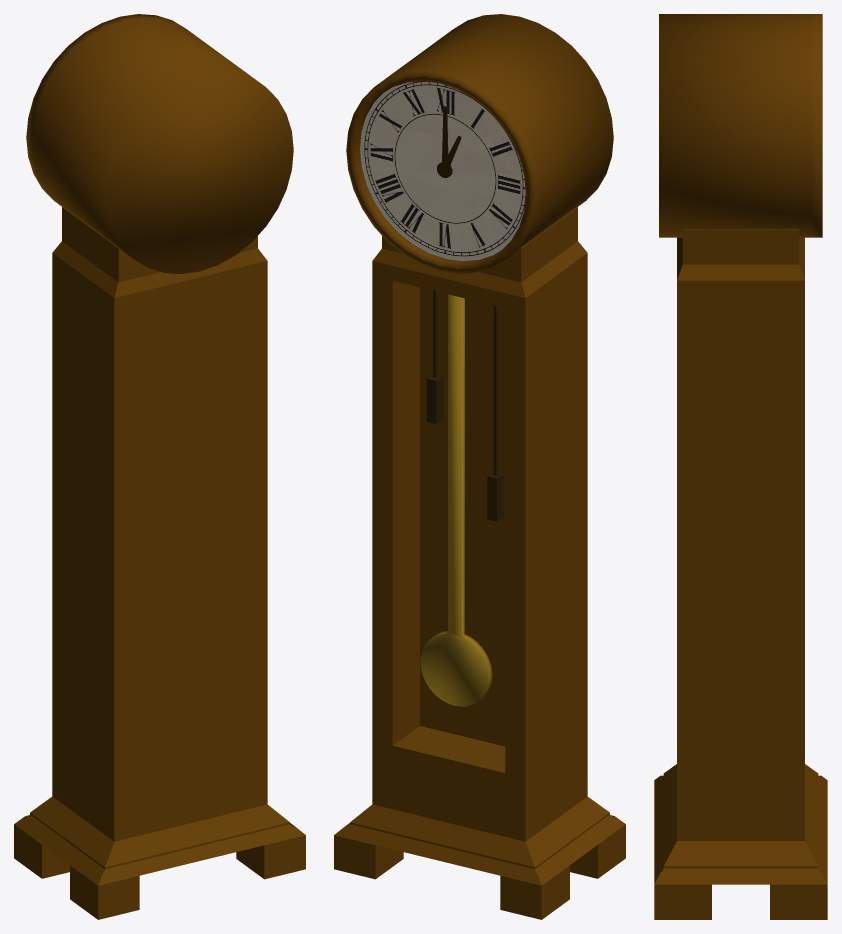
Rendered from grandpacock3.fbx.
3 renders of one model, left to right at view 1: azimuth 30°, elevation 25°; view 2: azimuth 150°, elevation 25°; view 3: azimuth 270°, elevation 25°, orthographic. The views are drawn at different scales.
Parts seen in each view (by area): view 1: clock frame; view 2: clock frame, clock frame.001, pendolo, bilancino 2 (×2); view 3: clock frame.
Part boxes in pixels (x1,y1,x2,y2): clock frame: (14, 14, 305, 919); clock frame: (334, 14, 625, 919); clock frame.001: (360, 81, 525, 260); pendolo: (420, 294, 492, 706); bilancino 2 (×2): (426, 290, 504, 521); clock frame: (654, 14, 827, 919).
Size of the model in its own units: 575 by 2162 by 403.
4 materials, 1 textured.
